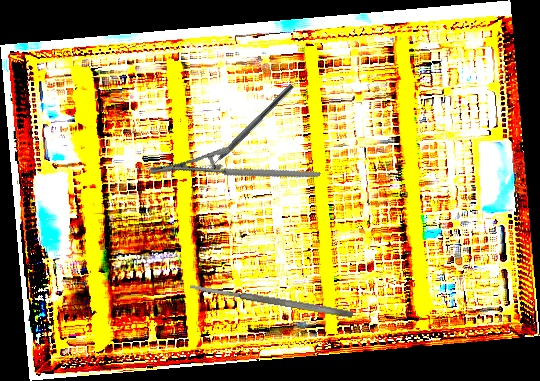Chopper: (198, 77, 295, 177)
Needle Holder: (148, 115, 321, 231)
Spatula Surgical: (189, 281, 354, 320)
